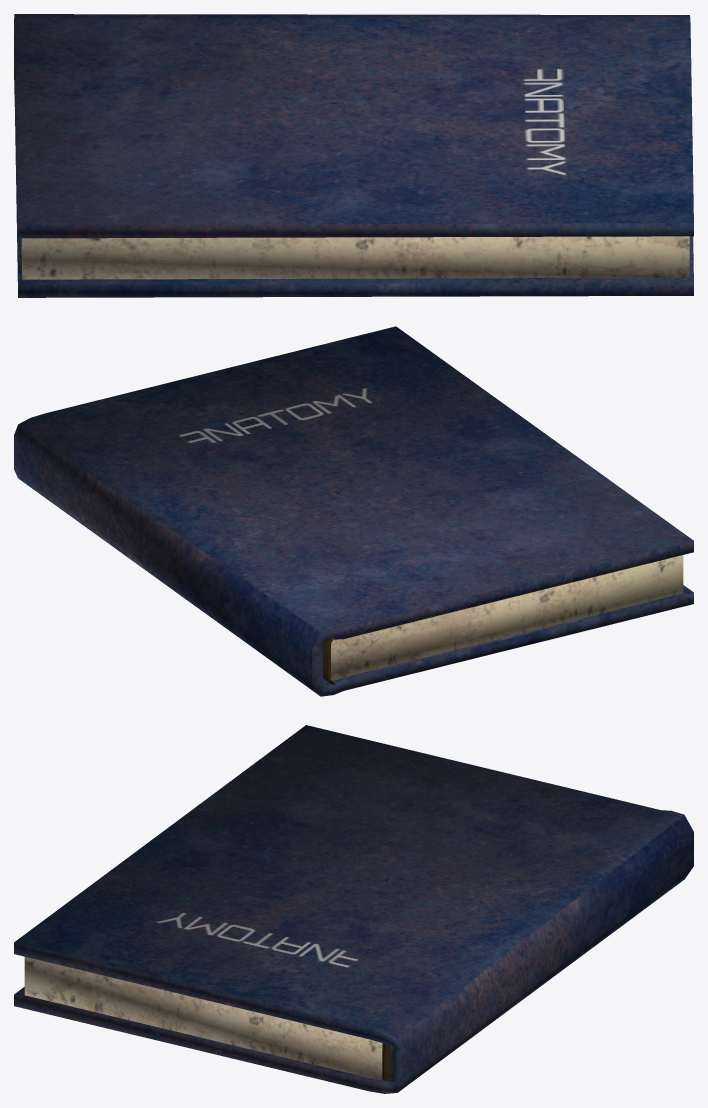
The model's file is ksiazka.glb.
3 renders of one model, top to bottom at view 1: azimuth 30°, elevation 25°; view 2: azimuth 150°, elevation 25°; view 3: azimuth 270°, elevation 25°, orthographic. The views are drawn at different scales.
Parts seen in each view (by area): view 1: Cube.075; view 2: Cube.075; view 3: Cube.075.
Boxes of the visible parts, <box> form: Cube.075: <box>14,14,693,297</box>; Cube.075: <box>14,326,693,696</box>; Cube.075: <box>14,725,693,1093</box>.
Bounding box in the file's own units: 0.2956 × 0.0298 × 0.2737.
1 material, 1 textured.
